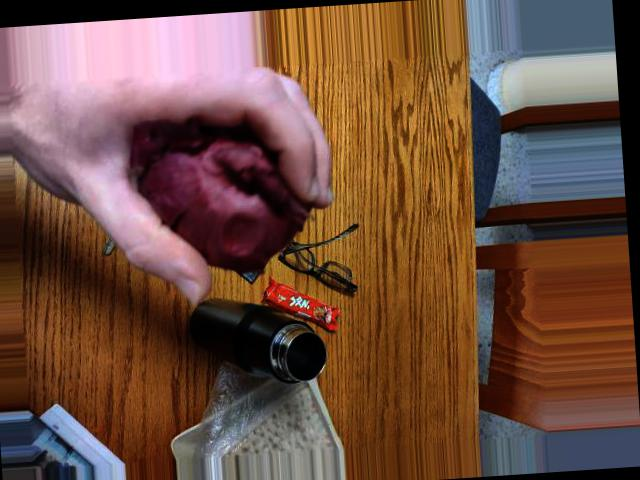onion: (155, 122, 284, 247)
